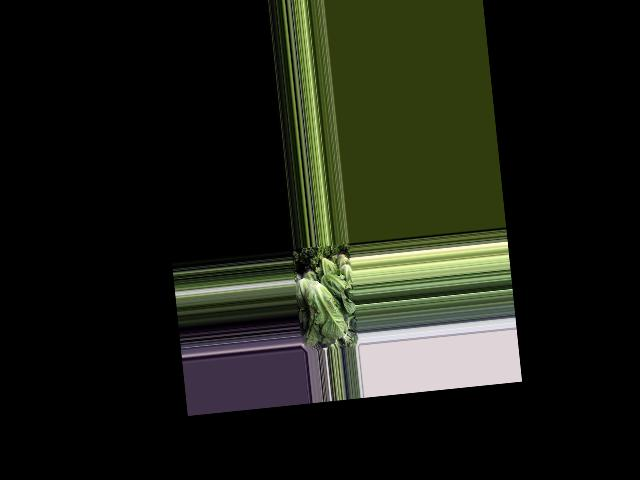lettuce: (321, 269, 354, 318)
